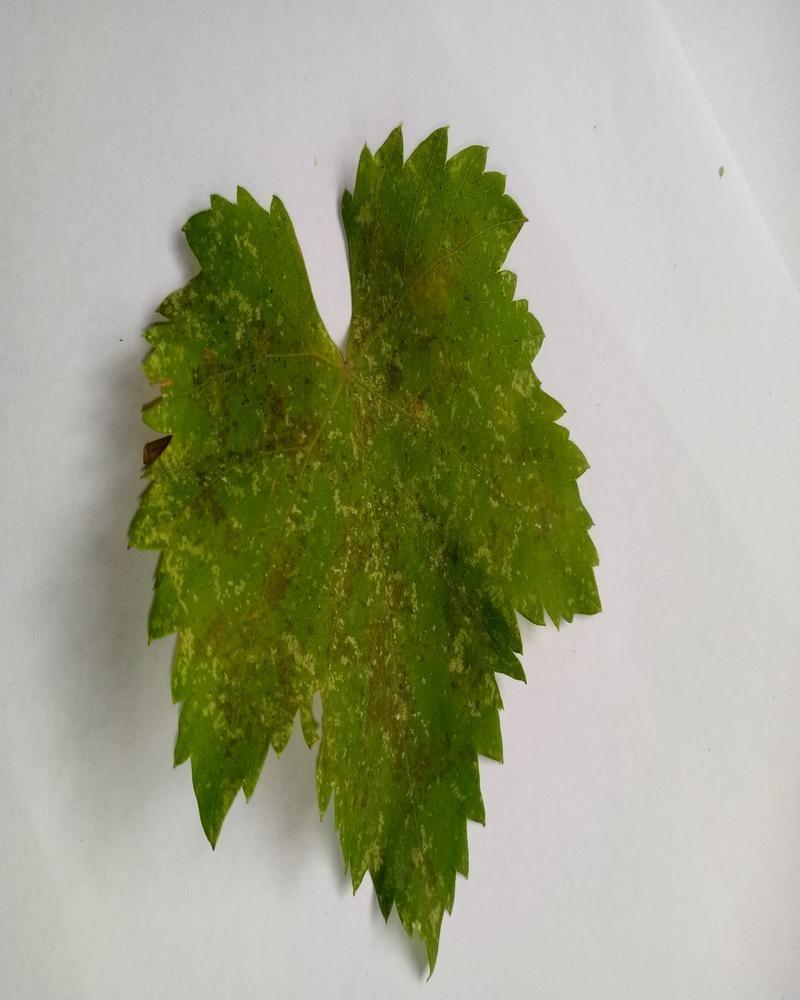Powdery-Mildew: (303, 600, 451, 900), (255, 389, 446, 575), (168, 571, 300, 764), (144, 320, 238, 570), (357, 153, 470, 359), (476, 392, 591, 591)
